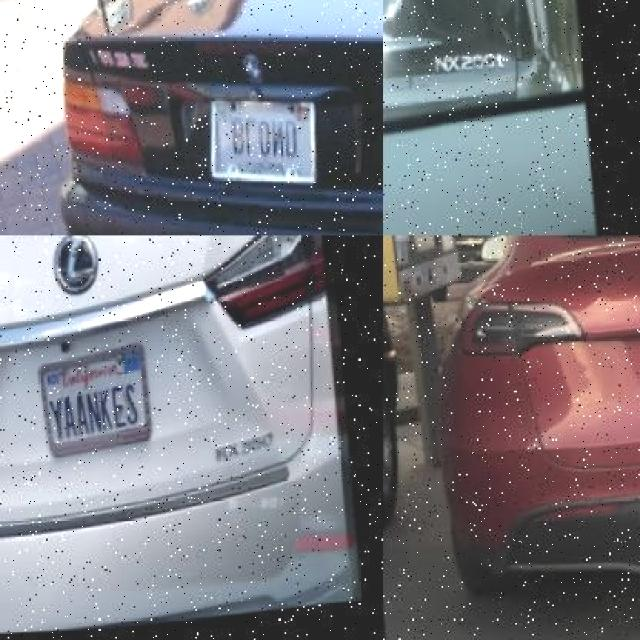licenseplate: (35, 357, 150, 455), (204, 88, 314, 184), (383, 0, 440, 55), (84, 0, 135, 18)
